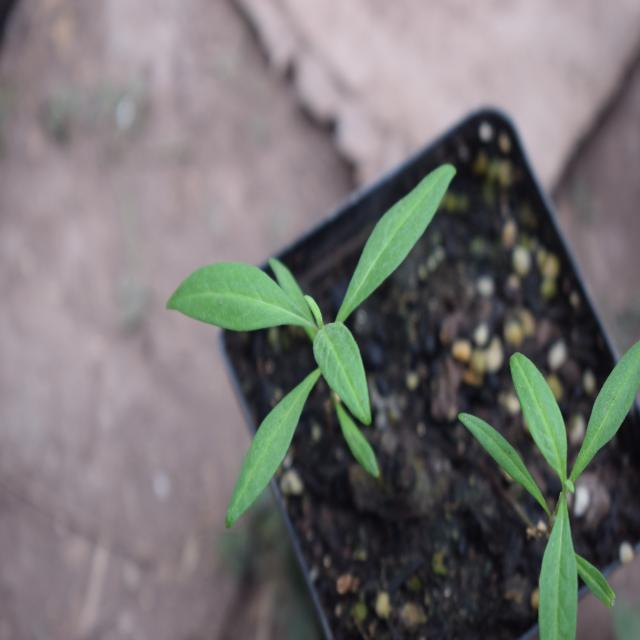white_smart_weed: (156, 133, 454, 505), (461, 296, 638, 633)
